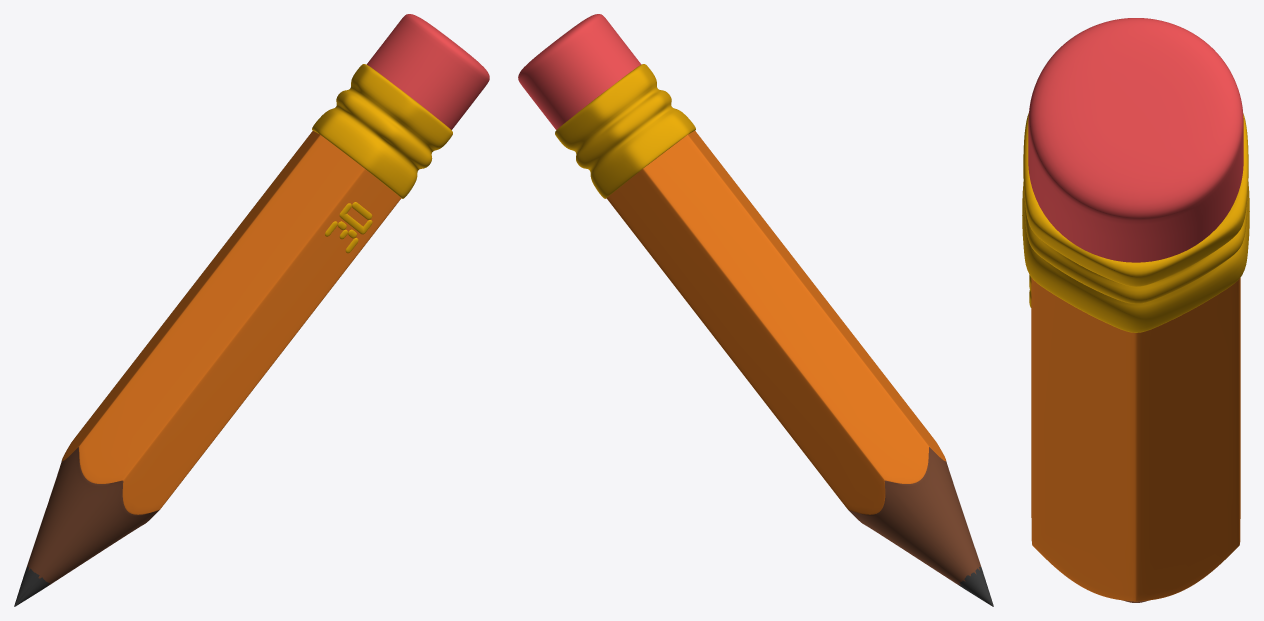
The model's file is pencil.glb.
3 views of the same model, side by side, from view 1: azimuth 30°, elevation 25°; view 2: azimuth 150°, elevation 25°; view 3: azimuth 270°, elevation 25° (orthographic). The views are drawn at different scales.
Parts seen in each view (by area): view 1: Pencil; view 2: Pencil; view 3: Pencil.
Part boxes in pixels (box(x1,y1,x2,y2)): Pencil: box(14, 14, 489, 606); Pencil: box(518, 14, 993, 606); Pencil: box(1022, 18, 1249, 602).
Size of the model in its own units: 1.82 by 1.82 by 0.384.
